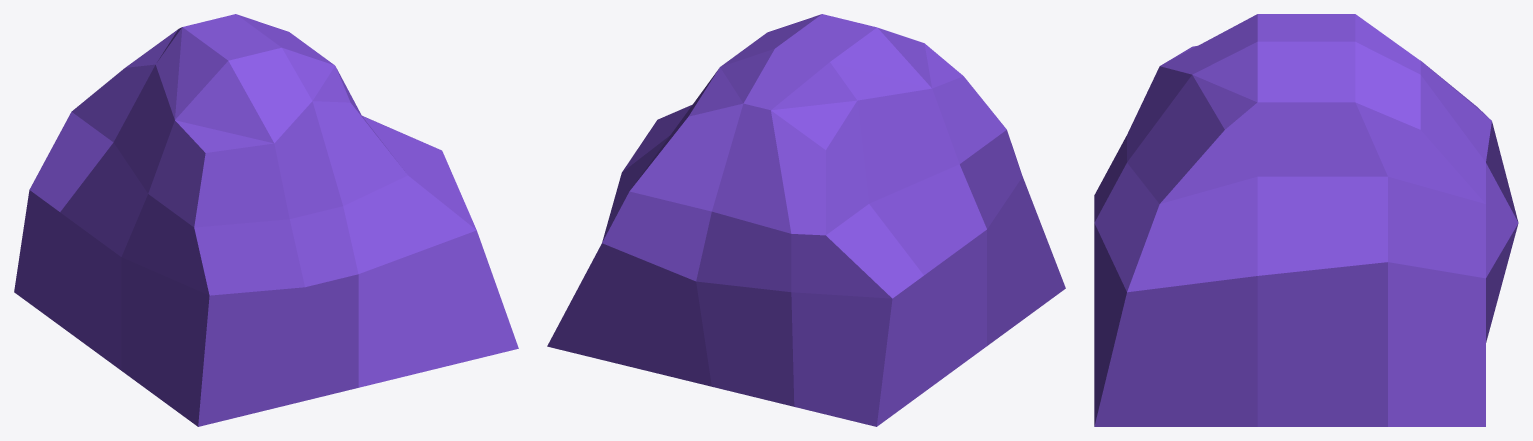
File: Rocher.fbx
3 renders of one model, left to right at view 1: azimuth 30°, elevation 25°; view 2: azimuth 150°, elevation 25°; view 3: azimuth 270°, elevation 25°, orthographic. The views are drawn at different scales.
Parts seen in each view (by area): view 1: cuboid_1; view 2: cuboid_1; view 3: cuboid_1.
Part boxes in pixels (x1,y1,x2,y2): cuboid_1: (14, 14, 518, 426); cuboid_1: (547, 14, 1065, 426); cuboid_1: (1094, 14, 1518, 426).
Bounding box in the file's own units: 40.62 × 34.38 × 43.75.
2 materials, 2 textured.
